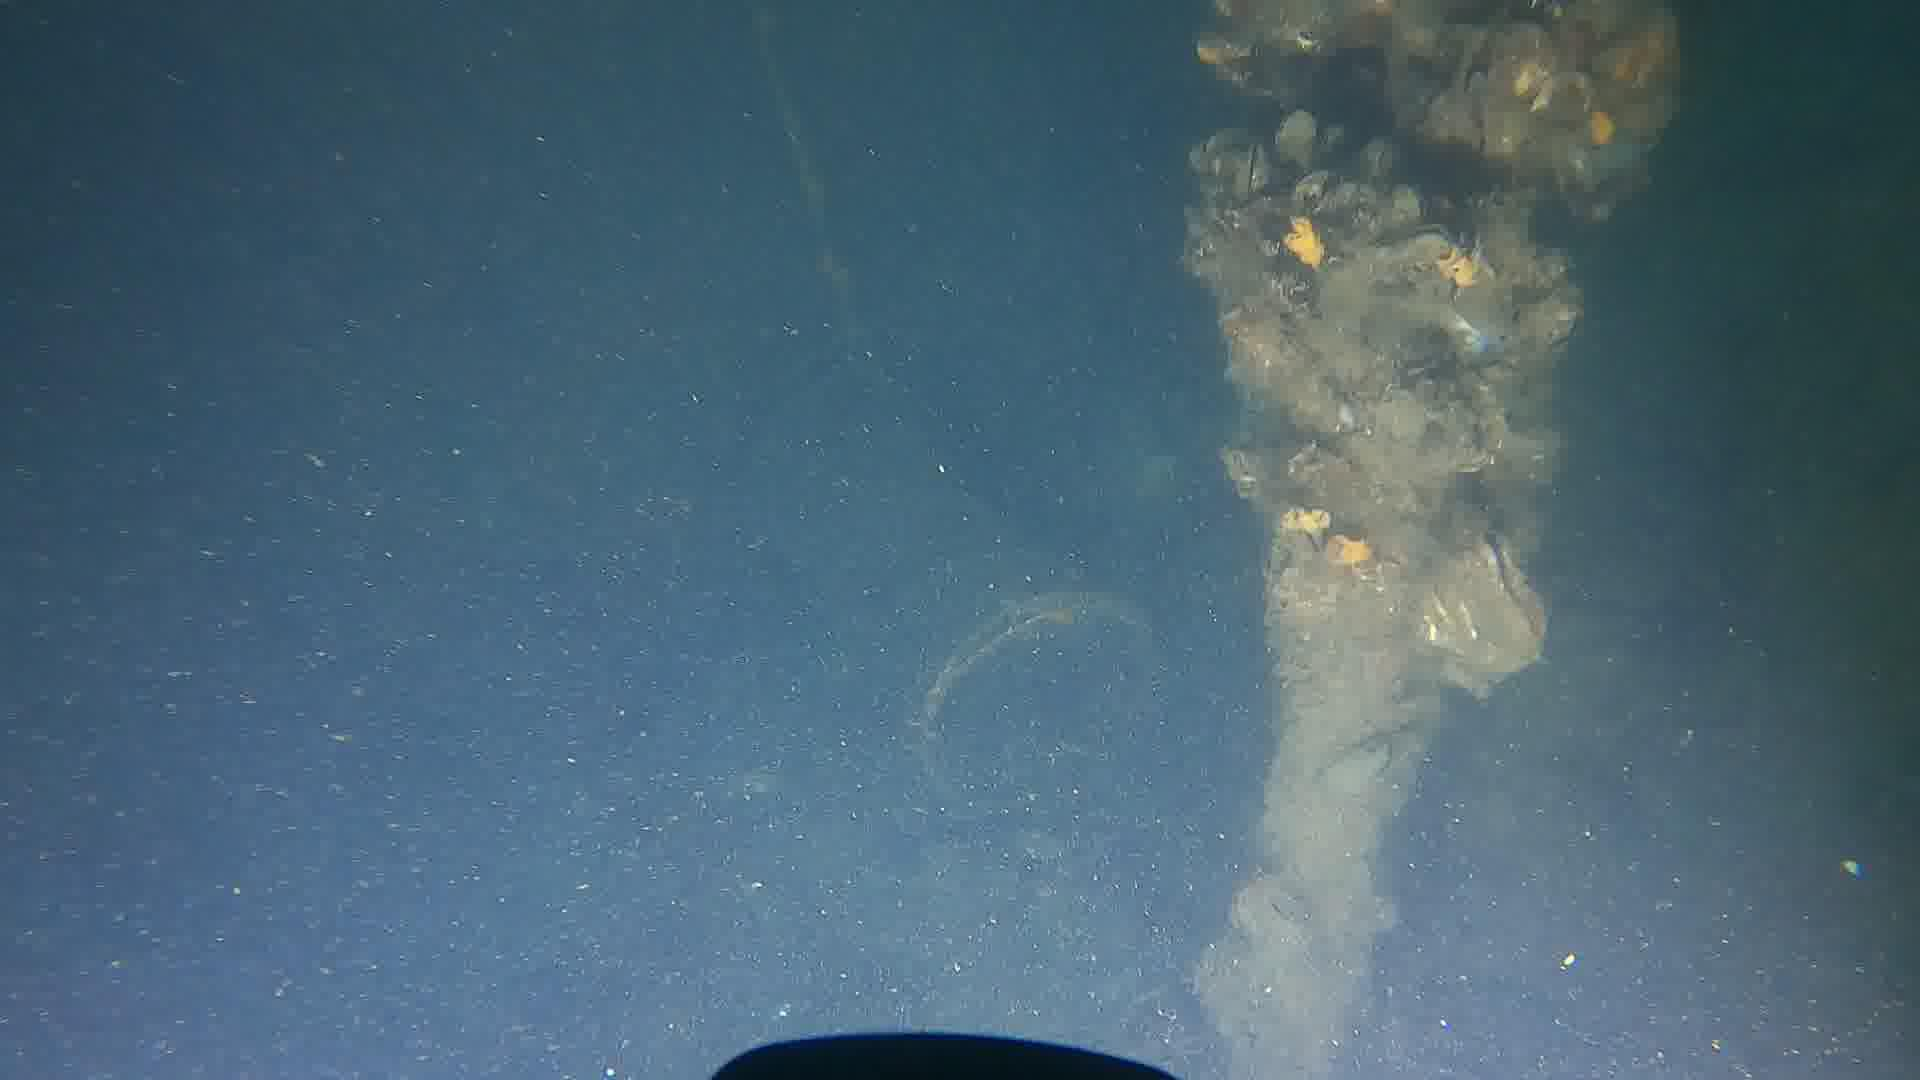spring fish trap: (727, 349, 1159, 812)
